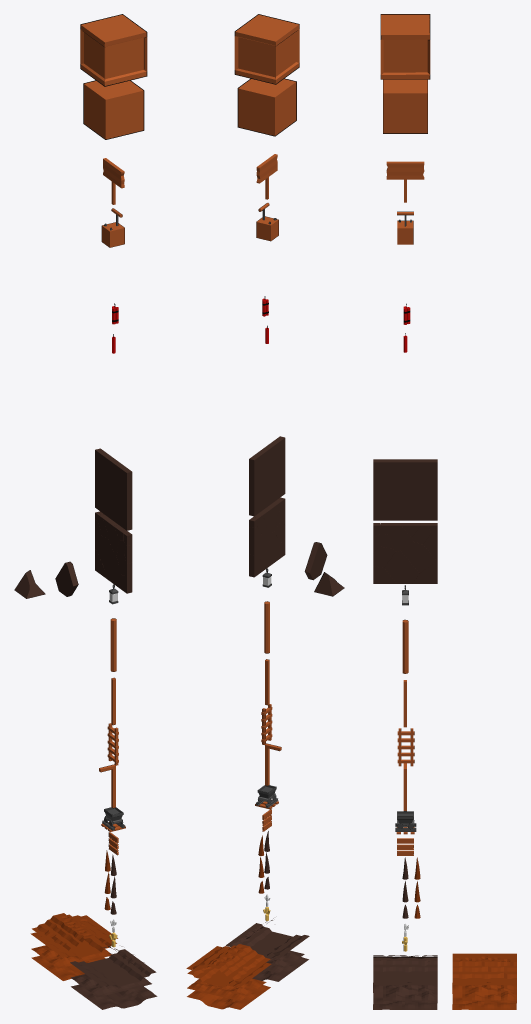
File: CaveLevelForExportFixed.fbx
3 renders of one model, left to right at view 1: azimuth 30°, elevation 25°; view 2: azimuth 150°, elevation 25°; view 3: azimuth 270°, elevation 25°, orthographic. The views are drawn at different scales.
Parts seen in each view (by area): view 1: Box_Wooden, Box_Wooden.001, RockBlowNotCut, GridWallV2, GridWallV5, GridWallV4, GridWallV6, GridWallV3, GridWallV7, DynamiteMachineBox, StoneV2, GridWallV7.001 (+5 smaller); view 2: Box_Wooden, Box_Wooden.001, RockBlowNotCut, GridWallV5, GridWallV2, GridWallV7, GridWallV7.001, GridWallV6, StoneV2, DynamiteMachineBox, Sign, GridWallV4 (+2 smaller); view 3: RockBlowNotCut, Box_Wooden, Box_Wooden.001, GridWallV2, GridWallV5, GridWallV3, GridWallV7, GridWallV7.001, Sign, GridWallV4, RockBlow, RockBlow_cell.016 (+6 smaller).
Part boxes in pixels (left/top/right/bottom): Box_Wooden: left=80, top=14, right=147, bottom=86; Box_Wooden.001: left=83, top=80, right=144, bottom=139; RockBlowNotCut: left=95, top=448, right=132, bottom=530; GridWallV2: left=70, top=949, right=156, bottom=986; GridWallV5: left=32, top=913, right=117, bottom=951; GridWallV4: left=71, top=984, right=157, bottom=1009; GridWallV6: left=30, top=932, right=116, bottom=957; GridWallV3: left=70, top=974, right=151, bottom=997; GridWallV7: left=31, top=945, right=111, bottom=968; DynamiteMachineBox: left=101, top=208, right=124, bottom=247; StoneV2: left=55, top=561, right=78, bottom=596; GridWallV7.001: left=31, top=956, right=105, bottom=980; Box_Wooden: left=234, top=14, right=299, bottom=84; Box_Wooden.001: left=237, top=78, right=296, bottom=136; RockBlowNotCut: left=249, top=436, right=285, bottom=516; GridWallV5: left=186, top=944, right=270, bottom=981; GridWallV2: left=226, top=923, right=309, bottom=958; GridWallV7: left=187, top=978, right=266, bottom=1001; GridWallV7.001: left=187, top=985, right=270, bottom=1009; GridWallV6: left=187, top=963, right=271, bottom=987; StoneV2: left=304, top=542, right=327, bottom=580; DynamiteMachineBox: left=256, top=203, right=278, bottom=241; Sign: left=256, top=154, right=277, bottom=199; GridWallV4: left=252, top=957, right=308, bottom=981; RockBlowNotCut: left=373, top=459, right=437, bottom=520; Box_Wooden: left=380, top=14, right=430, bottom=79; Box_Wooden.001: left=383, top=79, right=427, bottom=133; GridWallV2: left=373, top=958, right=437, bottom=985; GridWallV5: left=452, top=953, right=516, bottom=980; GridWallV3: left=383, top=985, right=437, bottom=1000; GridWallV7: left=462, top=985, right=516, bottom=1000; GridWallV7.001: left=452, top=983, right=516, bottom=1009; Sign: left=386, top=161, right=424, bottom=202; GridWallV4: left=373, top=983, right=437, bottom=1009; RockBlow: left=384, top=551, right=419, bottom=583; RockBlow_cell.016: left=401, top=541, right=436, bottom=573.
Size of the model in its own units: 404 by 3347 by 447.
